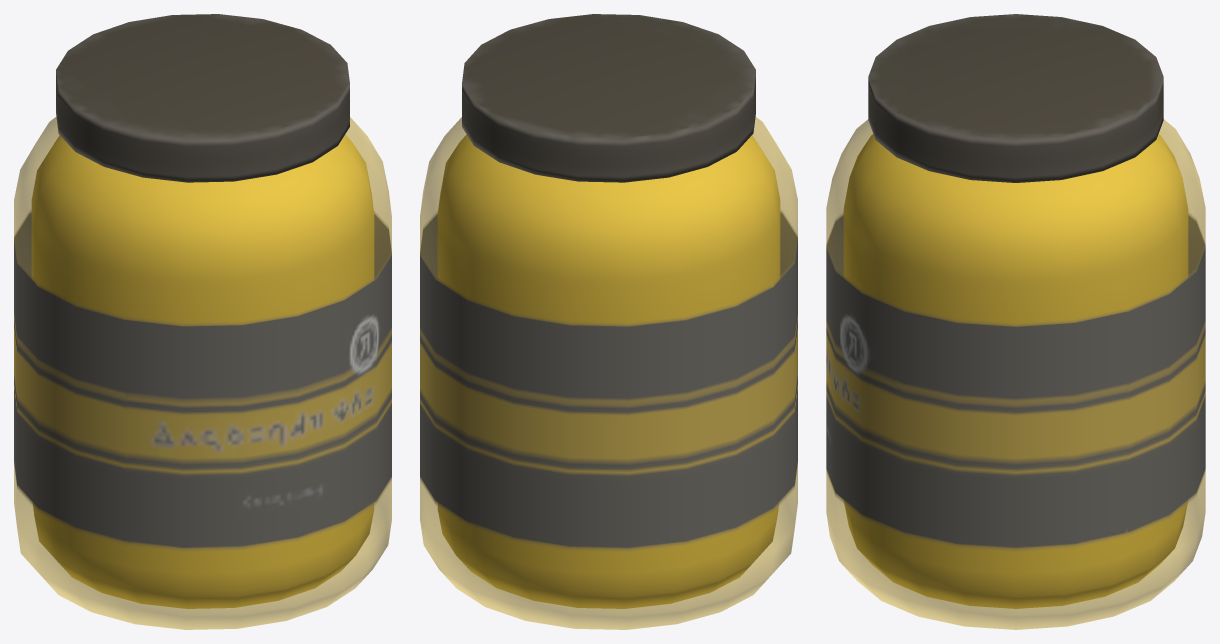
The model's file is pi_mustard01.gltf.
3 views of the same model, side by side, from view 1: azimuth 30°, elevation 25°; view 2: azimuth 150°, elevation 25°; view 3: azimuth 270°, elevation 25° (orthographic).
Visible parts, largest first — view 1: pi_mustard01_bottle_label01_mesh_shape:pi_mustard01_lid, pi_mustard01_bottle_outside01_mesh_shape:pi_mustard01_glass, pi_mustard01_inside01_mesh_shape:pi_mustard01_body, pi_mustard01_lid01_mesh_shape:pi_mustard01_lid; view 2: pi_mustard01_bottle_label01_mesh_shape:pi_mustard01_lid, pi_mustard01_bottle_outside01_mesh_shape:pi_mustard01_glass, pi_mustard01_inside01_mesh_shape:pi_mustard01_body, pi_mustard01_lid01_mesh_shape:pi_mustard01_lid; view 3: pi_mustard01_bottle_label01_mesh_shape:pi_mustard01_lid, pi_mustard01_bottle_outside01_mesh_shape:pi_mustard01_glass, pi_mustard01_inside01_mesh_shape:pi_mustard01_body, pi_mustard01_lid01_mesh_shape:pi_mustard01_lid.
Part boxes in pixels (bbox=[...]): pi_mustard01_bottle_label01_mesh_shape:pi_mustard01_lid: bbox=[14, 213, 391, 547]; pi_mustard01_bottle_outside01_mesh_shape:pi_mustard01_glass: bbox=[14, 117, 391, 629]; pi_mustard01_inside01_mesh_shape:pi_mustard01_body: bbox=[31, 135, 374, 608]; pi_mustard01_lid01_mesh_shape:pi_mustard01_lid: bbox=[56, 14, 349, 182]; pi_mustard01_bottle_label01_mesh_shape:pi_mustard01_lid: bbox=[420, 213, 797, 547]; pi_mustard01_bottle_outside01_mesh_shape:pi_mustard01_glass: bbox=[420, 117, 797, 629]; pi_mustard01_inside01_mesh_shape:pi_mustard01_body: bbox=[437, 135, 780, 608]; pi_mustard01_lid01_mesh_shape:pi_mustard01_lid: bbox=[462, 14, 755, 182]; pi_mustard01_bottle_label01_mesh_shape:pi_mustard01_lid: bbox=[826, 215, 1205, 547]; pi_mustard01_bottle_outside01_mesh_shape:pi_mustard01_glass: bbox=[826, 119, 1205, 629]; pi_mustard01_inside01_mesh_shape:pi_mustard01_body: bbox=[843, 134, 1188, 608]; pi_mustard01_lid01_mesh_shape:pi_mustard01_lid: bbox=[868, 14, 1163, 182].
Size of the model in its own units: 0.0838 by 0.1177 by 0.0838.
Materials: 3 (3 with a texture image).
